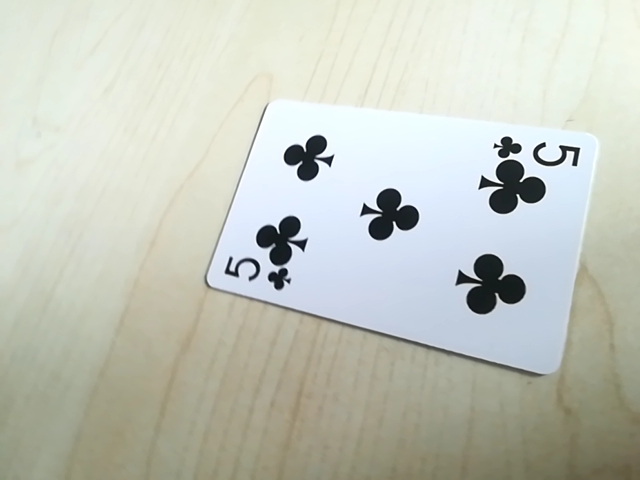mh 5: (492, 132, 583, 167), (217, 256, 295, 293)
